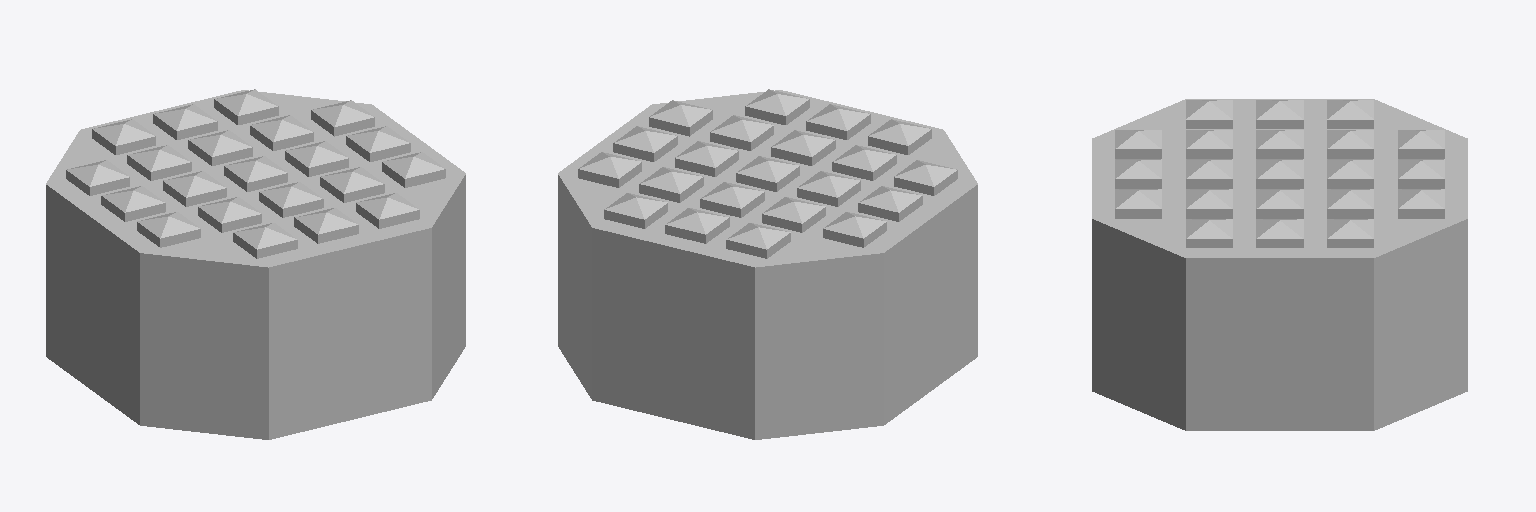
The model's file is aa_turret.obj.
3 renders of one model, left to right at view 1: azimuth 30°, elevation 25°; view 2: azimuth 150°, elevation 25°; view 3: azimuth 270°, elevation 25°, orthographic.
Parts seen in each view (by area): view 1: pCube1; view 2: pCube1; view 3: pCube1.
Part boxes in pixels (bbox=[...]): pCube1: bbox=[46, 89, 465, 439]; pCube1: bbox=[558, 89, 977, 439]; pCube1: bbox=[1092, 99, 1467, 430].
Bounding box in the file's own units: 4 × 2.23 × 4.